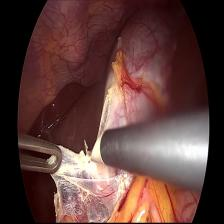Grasper: (16, 127, 64, 180)
Hook: (80, 124, 107, 166)
